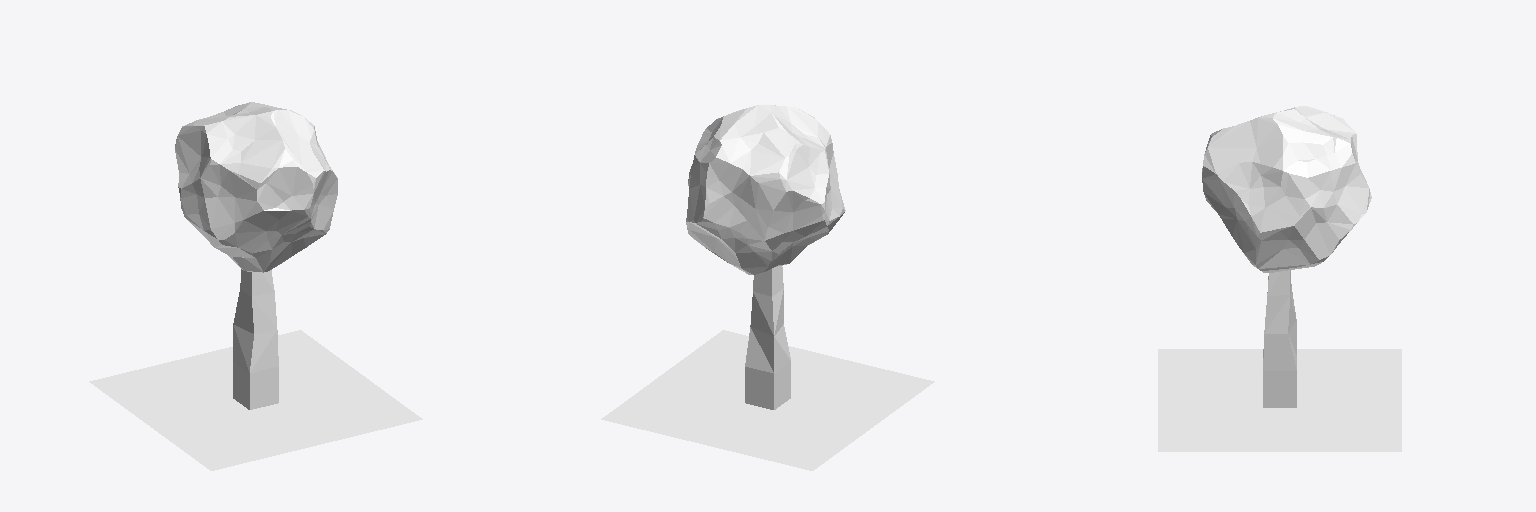
Rendered from tree1.obj.
The picture shows the model from 3 angles: view 1: azimuth 30°, elevation 25°; view 2: azimuth 150°, elevation 25°; view 3: azimuth 270°, elevation 25°; orthographic projection.
Parts seen in each view (by area): view 1: rock025; view 2: rock025; view 3: rock025.
Boxes of the visible parts, <box> form: rock025: <box>89,102,422,470</box>; rock025: <box>601,105,934,470</box>; rock025: <box>1158,106,1401,451</box>.
Bounding box in the file's own units: 7.5 × 9.77 × 7.5.